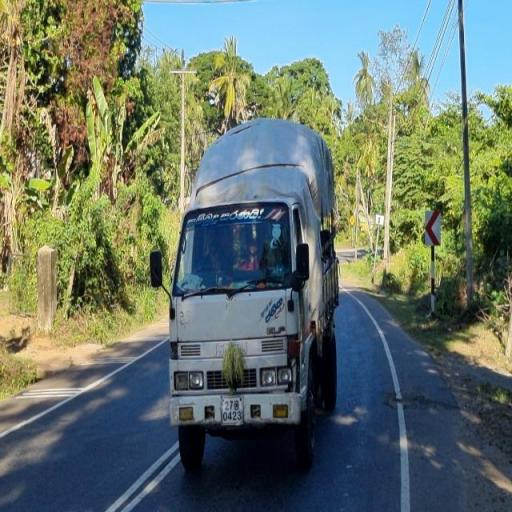double_white_line: (104, 441, 177, 512)
